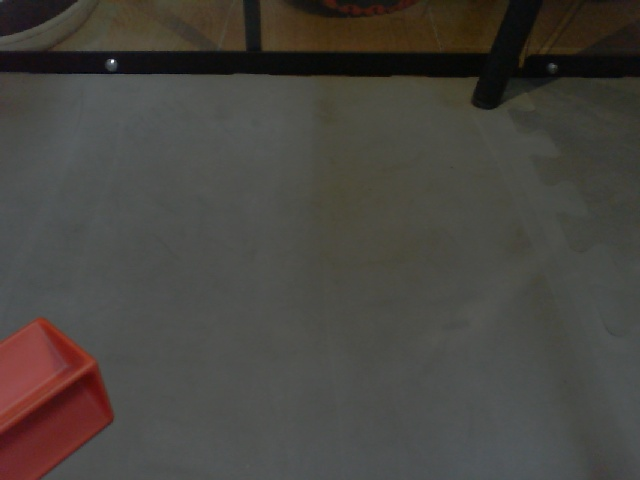RedSample: (1, 311, 119, 479)
